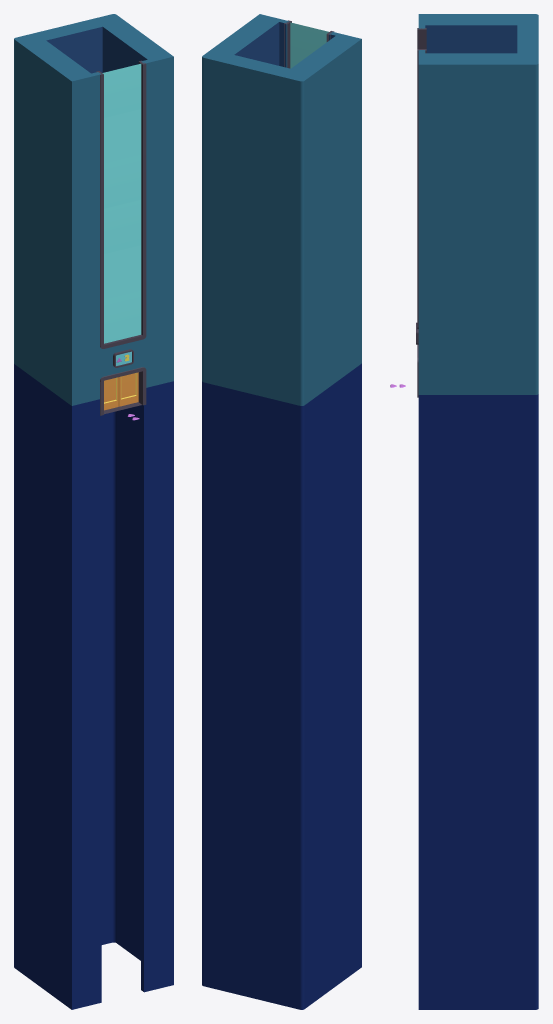
File: Elevator_end_miami.fbx
3 renders of one model, left to right at view 1: azimuth 30°, elevation 25°; view 2: azimuth 150°, elevation 25°; view 3: azimuth 270°, elevation 25°, orthographic.
Parts seen in each view (by area): view 1: ElevatorMine_mesh_miami, Door_l_miami, Door_r_miami; view 2: ElevatorMine_mesh_miami; view 3: ElevatorMine_mesh_miami.
Boxes of the visible parts, <box> form: ElevatorMine_mesh_miami: <box>14,14,173,1009</box>; Door_l_miami: <box>118,372,138,406</box>; Door_r_miami: <box>104,377,118,410</box>; ElevatorMine_mesh_miami: <box>202,14,361,1009</box>; ElevatorMine_mesh_miami: <box>416,14,538,1009</box>.
Bounding box in the file's own units: 900 × 7829 × 1113.
